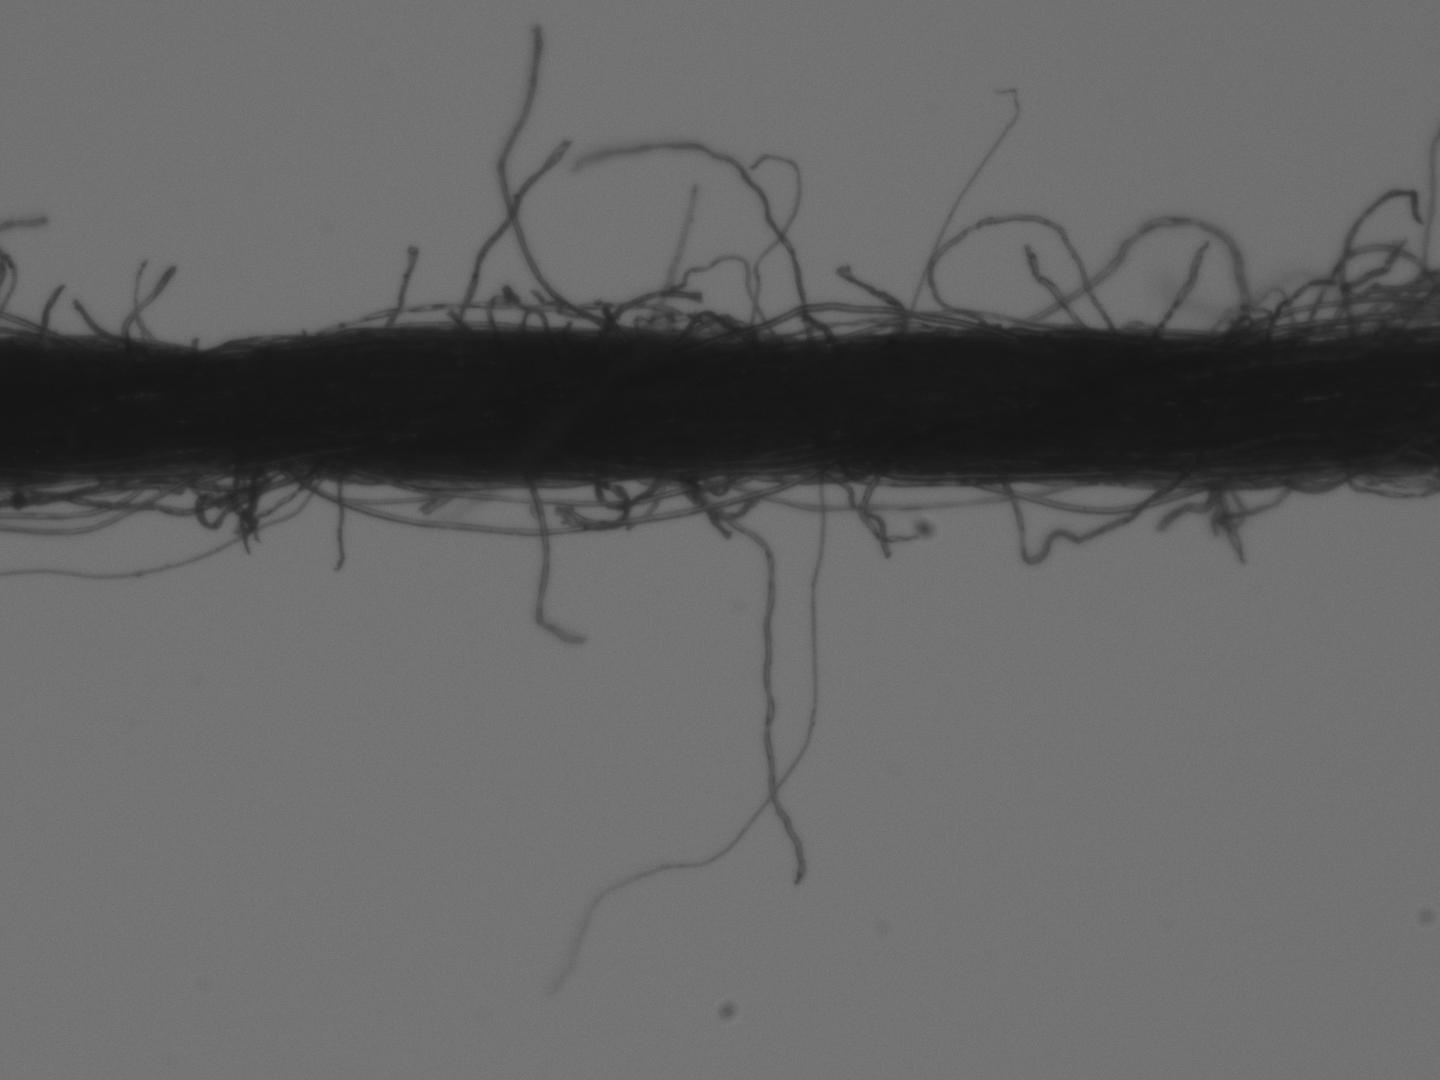loop_fiber: (300, 471, 801, 540), (1007, 217, 1246, 336), (924, 212, 1111, 334), (1002, 476, 1181, 564), (16, 466, 316, 515), (383, 474, 742, 507), (737, 302, 963, 341), (1261, 282, 1354, 337), (184, 463, 293, 503), (685, 307, 754, 344), (1281, 474, 1357, 495)
protruding_fiber: (693, 472, 810, 897), (448, 134, 570, 329), (527, 475, 590, 651), (1022, 243, 1090, 330), (1153, 241, 1208, 331), (376, 247, 418, 330), (125, 269, 175, 337), (330, 479, 348, 575), (69, 295, 107, 340), (40, 285, 61, 340)
